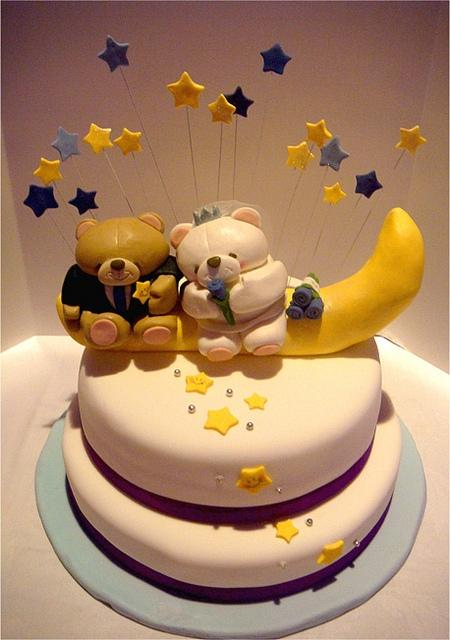banana: (56, 208, 425, 356)
